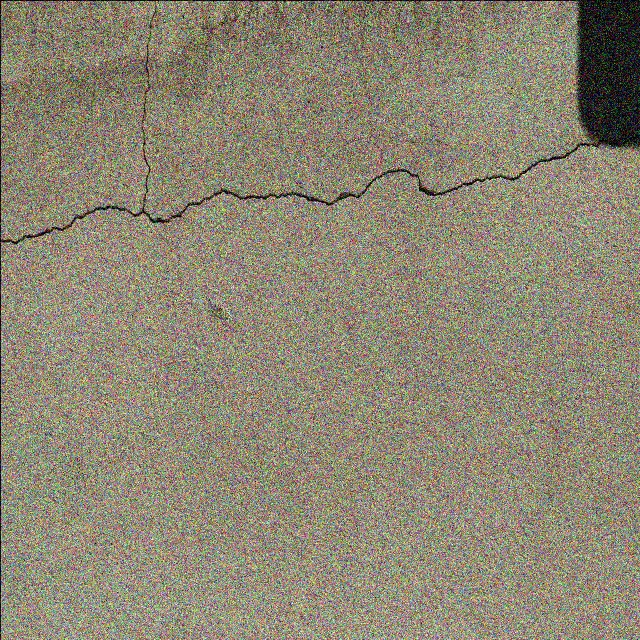SurfaceCrack: (0, 96, 639, 264)
